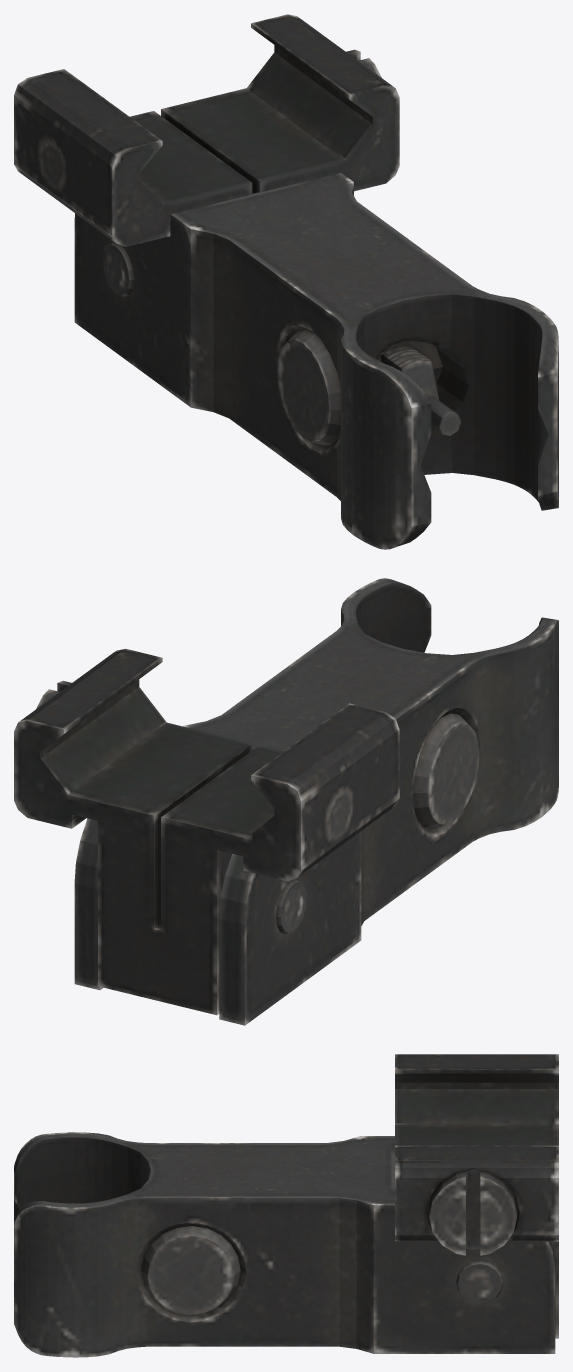
3 renders of one model, top to bottom at view 1: azimuth 30°, elevation 25°; view 2: azimuth 150°, elevation 25°; view 3: azimuth 270°, elevation 25°, orthographic. The views are drawn at different scales.
Parts seen in each view (by area): view 1: TW_5caf16a2ae92152ac412efbc_folded_PZ_Import; view 2: TW_5caf16a2ae92152ac412efbc_folded_PZ_Import; view 3: TW_5caf16a2ae92152ac412efbc_folded_PZ_Import.
Boxes of the visible parts, x1,y1,x2,y2 form: TW_5caf16a2ae92152ac412efbc_folded_PZ_Import: (14,14,558,549); TW_5caf16a2ae92152ac412efbc_folded_PZ_Import: (14,578,558,1025); TW_5caf16a2ae92152ac412efbc_folded_PZ_Import: (14,1054,558,1357).
Size of the model in its own units: 0.0157 by 0.0297 by 0.0127.
Materials: 1 (1 with a texture image).
